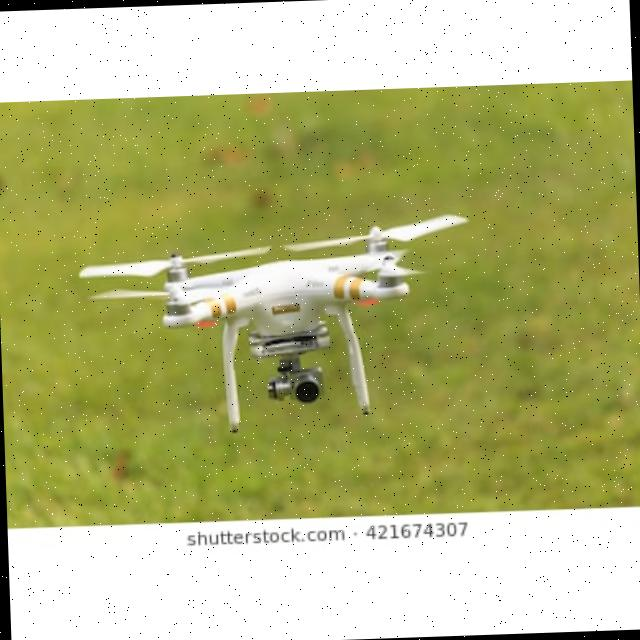Drones: (95, 222, 468, 434)
